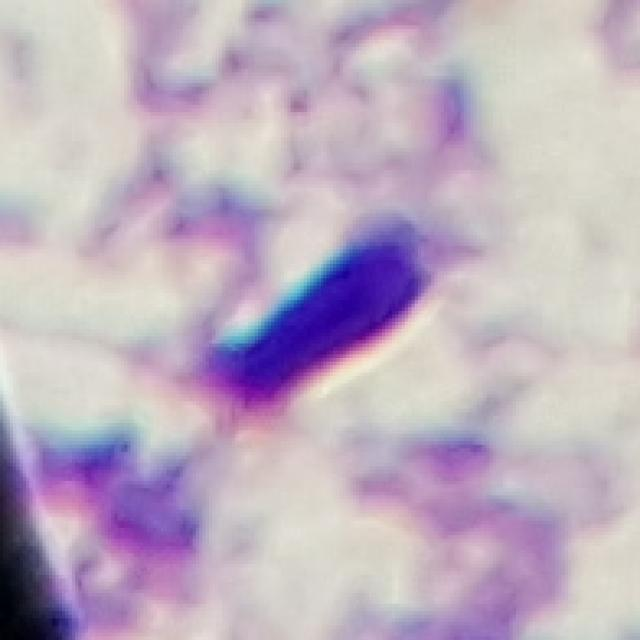abnormal sperm: (169, 258, 416, 477)
